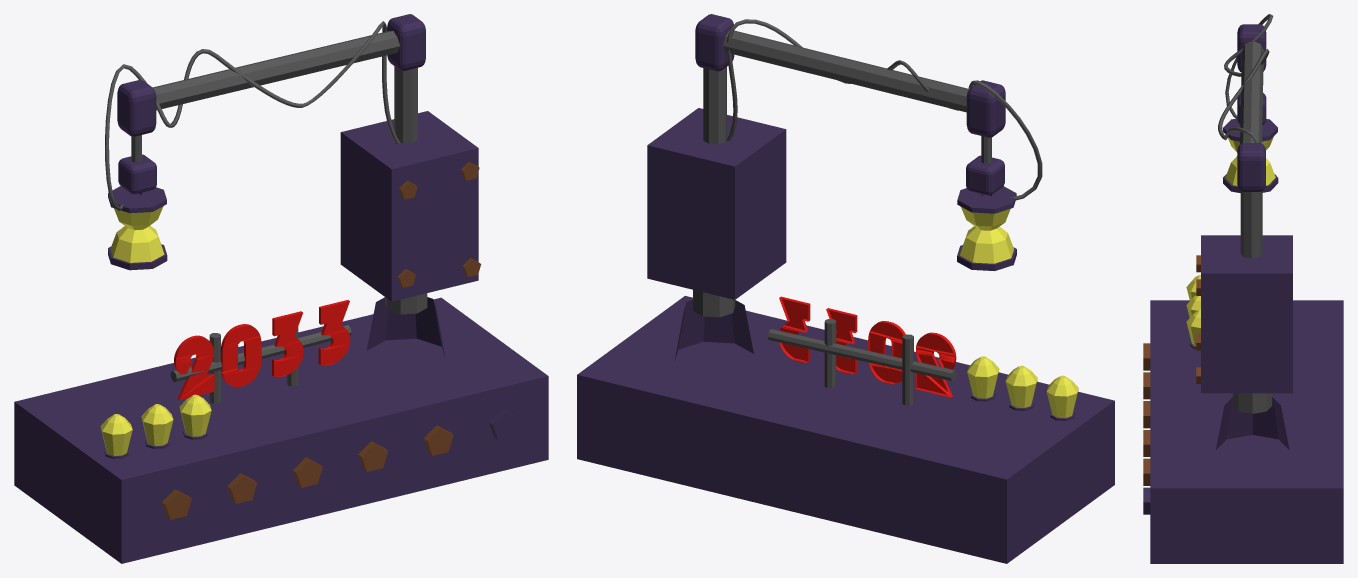
Rendered from MaquinaDelTiempo.fbx.
The picture shows the model from 3 angles, left to right: view 1: azimuth 30°, elevation 25°; view 2: azimuth 150°, elevation 25°; view 3: azimuth 270°, elevation 25°; orthographic projection. The views are drawn at different scales.
Parts seen in each view (by area): view 1: Cylinder.011; view 2: Cylinder.011; view 3: Cylinder.011.
Boxes of the visible parts, <box> form: Cylinder.011: <box>14,14,548,563</box>; Cylinder.011: <box>577,14,1114,563</box>; Cylinder.011: <box>1143,14,1343,563</box>.
Bounding box in the file's own units: 77.23 × 75.04 × 34.81.
